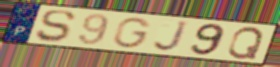9: (189, 23, 228, 57), (76, 13, 110, 46)
G: (111, 17, 153, 50)
J: (152, 20, 190, 53)
Q: (226, 26, 266, 61)
S: (34, 10, 77, 43)
